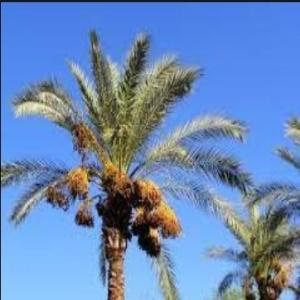palm tree: (0, 27, 254, 299)
